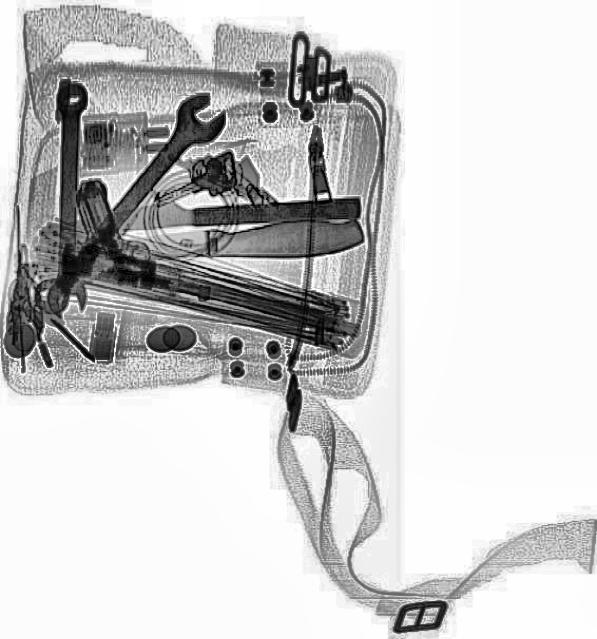Gun: (61, 172, 225, 302)
Knife: (82, 210, 364, 278), (47, 185, 361, 237)
Wrench: (19, 81, 237, 324), (46, 82, 92, 314)
